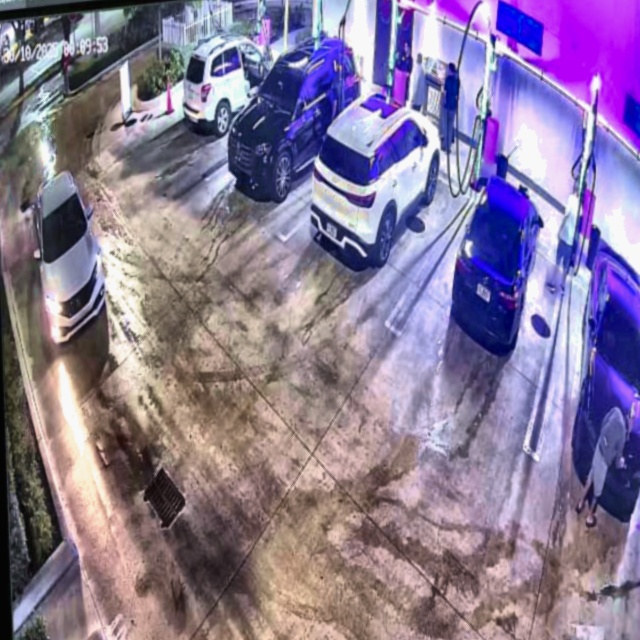Car: (309, 89, 443, 275), (229, 29, 359, 201), (448, 174, 541, 359)
